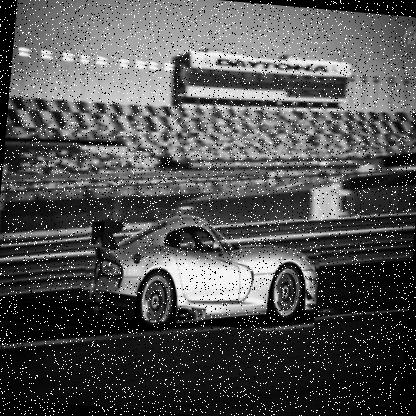Car: (81, 202, 324, 336)
